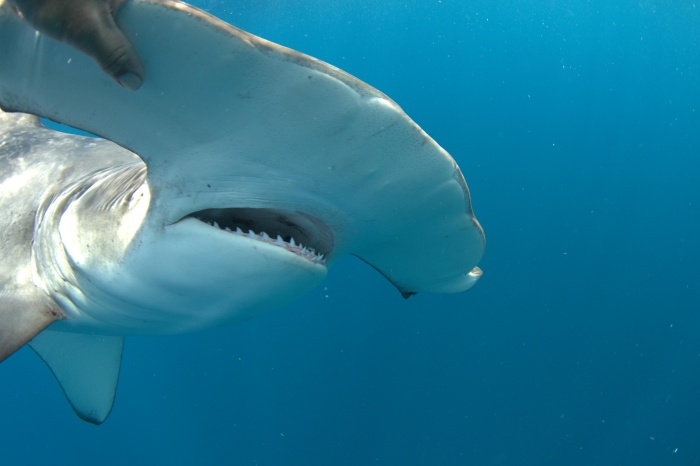Hammer: (1, 6, 501, 451)
